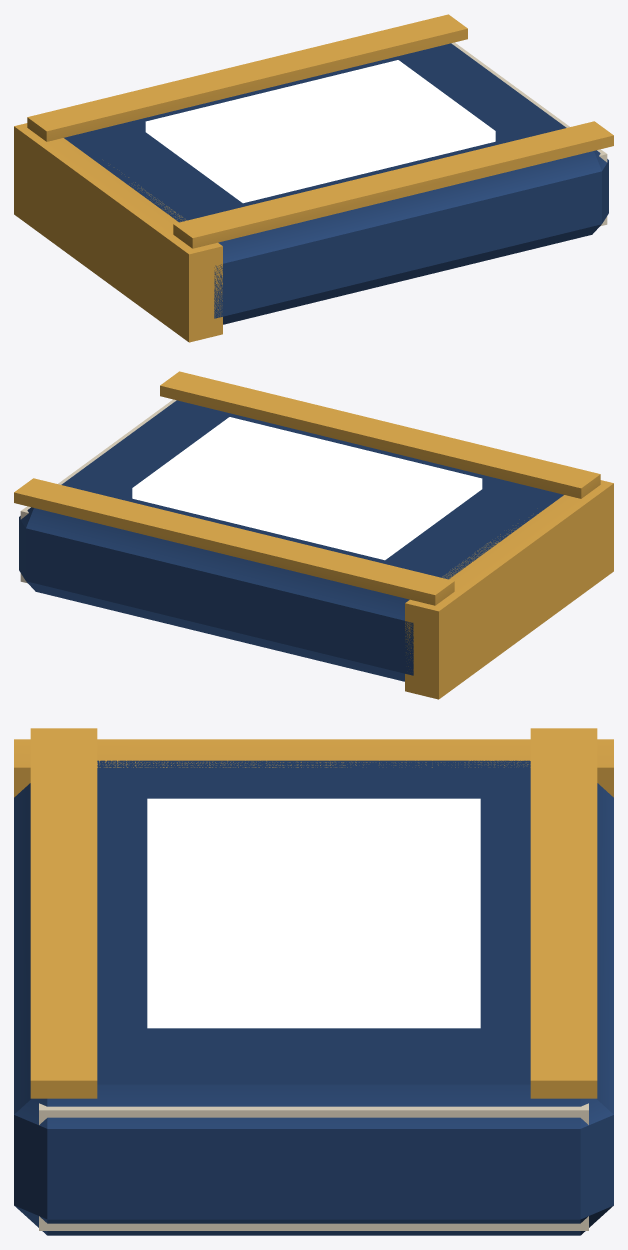
The model's file is knowledge_book.glb.
The picture shows the model from 3 angles, top to bottom: view 1: azimuth 30°, elevation 25°; view 2: azimuth 150°, elevation 25°; view 3: azimuth 270°, elevation 25°; orthographic projection. The views are drawn at different scales.
Parts seen in each view (by area): view 1: knowledge_book; view 2: knowledge_book; view 3: knowledge_book.
Part boxes in pixels (x1,y1,x2,y2): knowledge_book: (14,14,613,342); knowledge_book: (14,371,613,699); knowledge_book: (14,728,613,1235).
Size of the model in its own units: 0.51 by 0.112 by 0.36.
